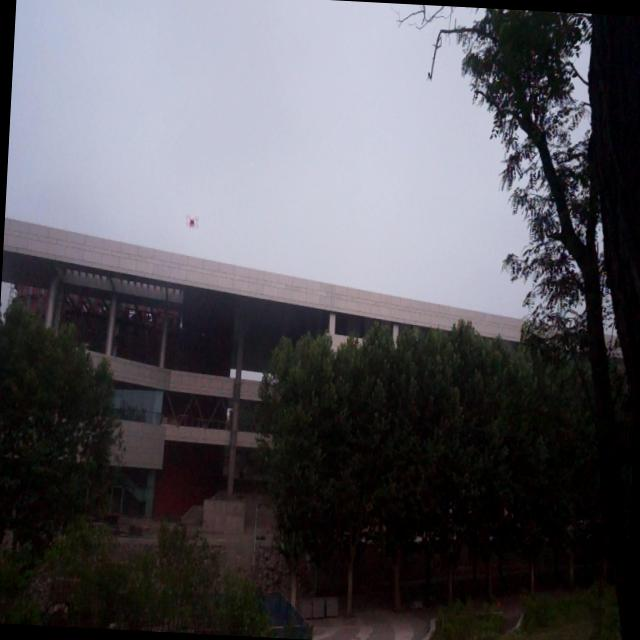drone: (186, 212, 198, 230)
